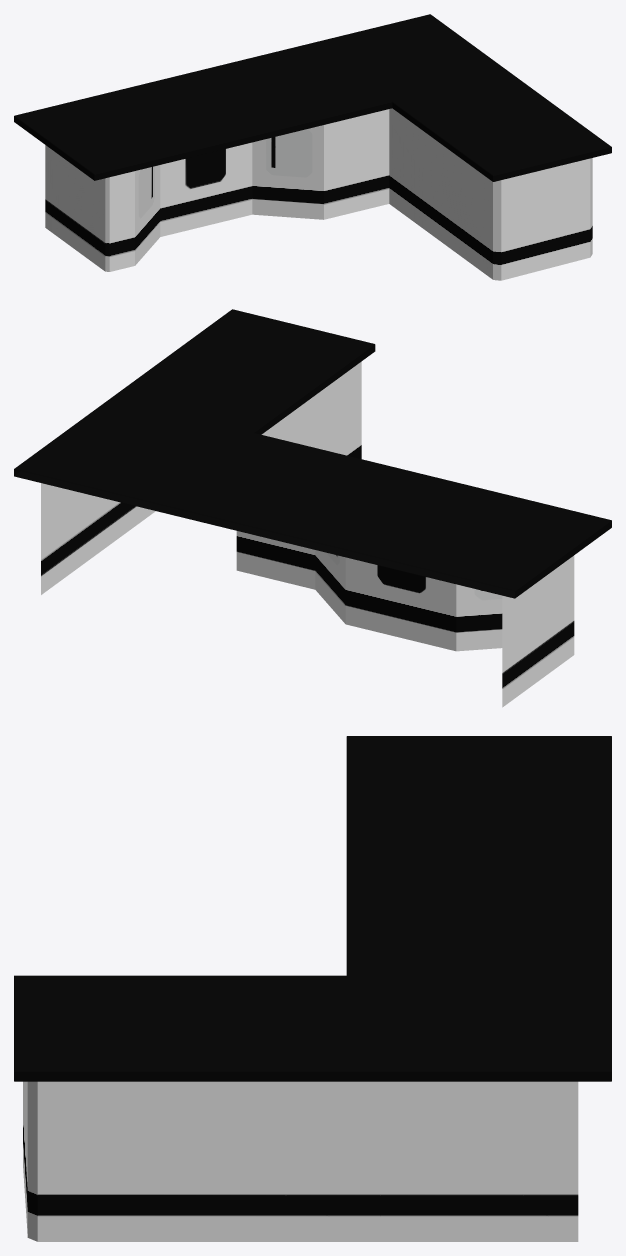
File: escritorio lab.fbx
3 renders of one model, top to bottom at view 1: azimuth 30°, elevation 25°; view 2: azimuth 150°, elevation 25°; view 3: azimuth 270°, elevation 25°, orthographic. The views are drawn at different scales.
Parts seen in each view (by area): view 1: mesa_laboratorio; view 2: mesa_laboratorio; view 3: mesa_laboratorio.
Boxes of the visible parts, x1,y1,x2,y2 form: mesa_laboratorio: (14,14,611,280); mesa_laboratorio: (14,309,611,707); mesa_laboratorio: (14,736,611,1241).
Size of the model in its own units: 313 by 78.7 by 236.
Materials: 1 (1 with a texture image).
